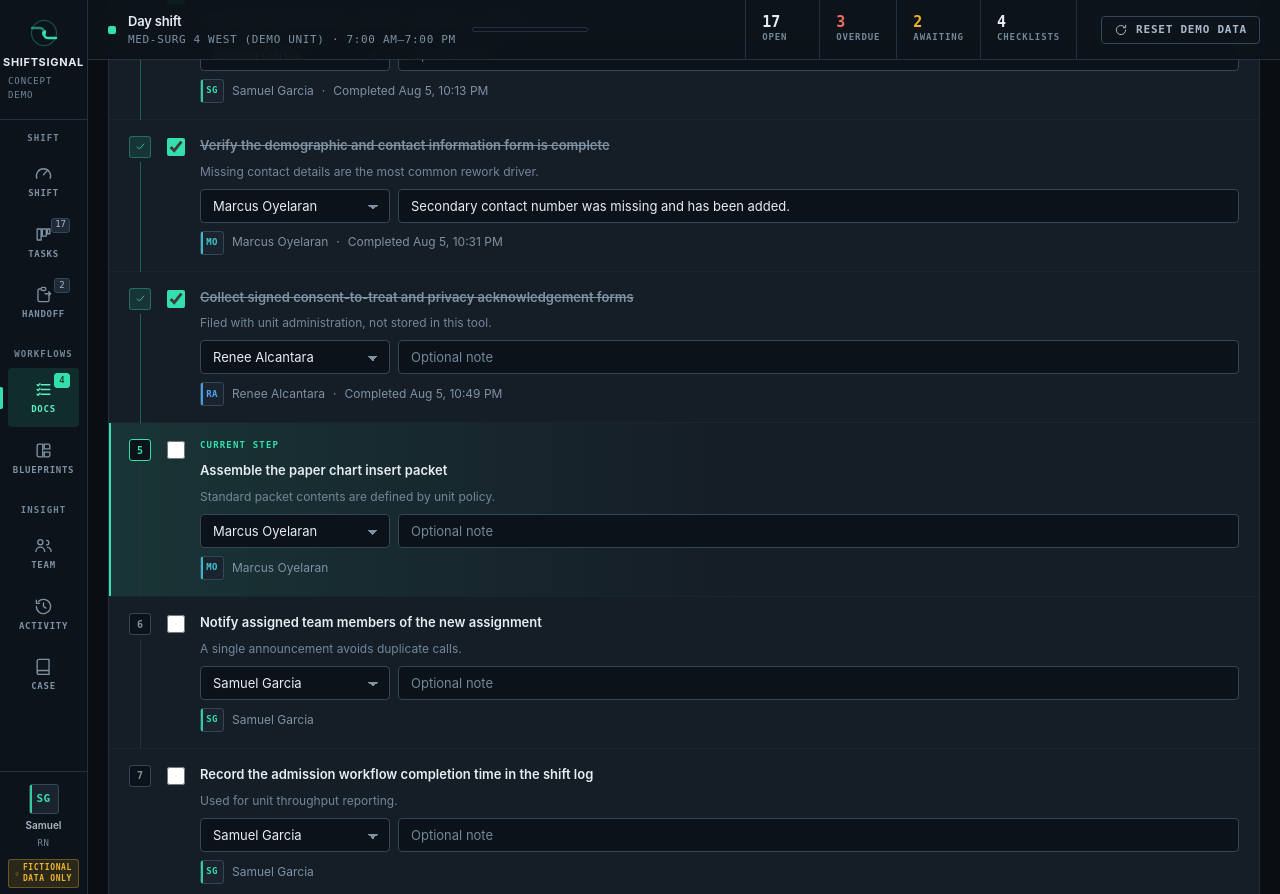
Test: Checklist workflows › completes a step and advances the progress indicator
(page scrolled)
Step 1. Click the checkbox labelled "Assemble the paper chart insert packet" → (176, 450), box [167, 442, 185, 460]
(page scrolled)
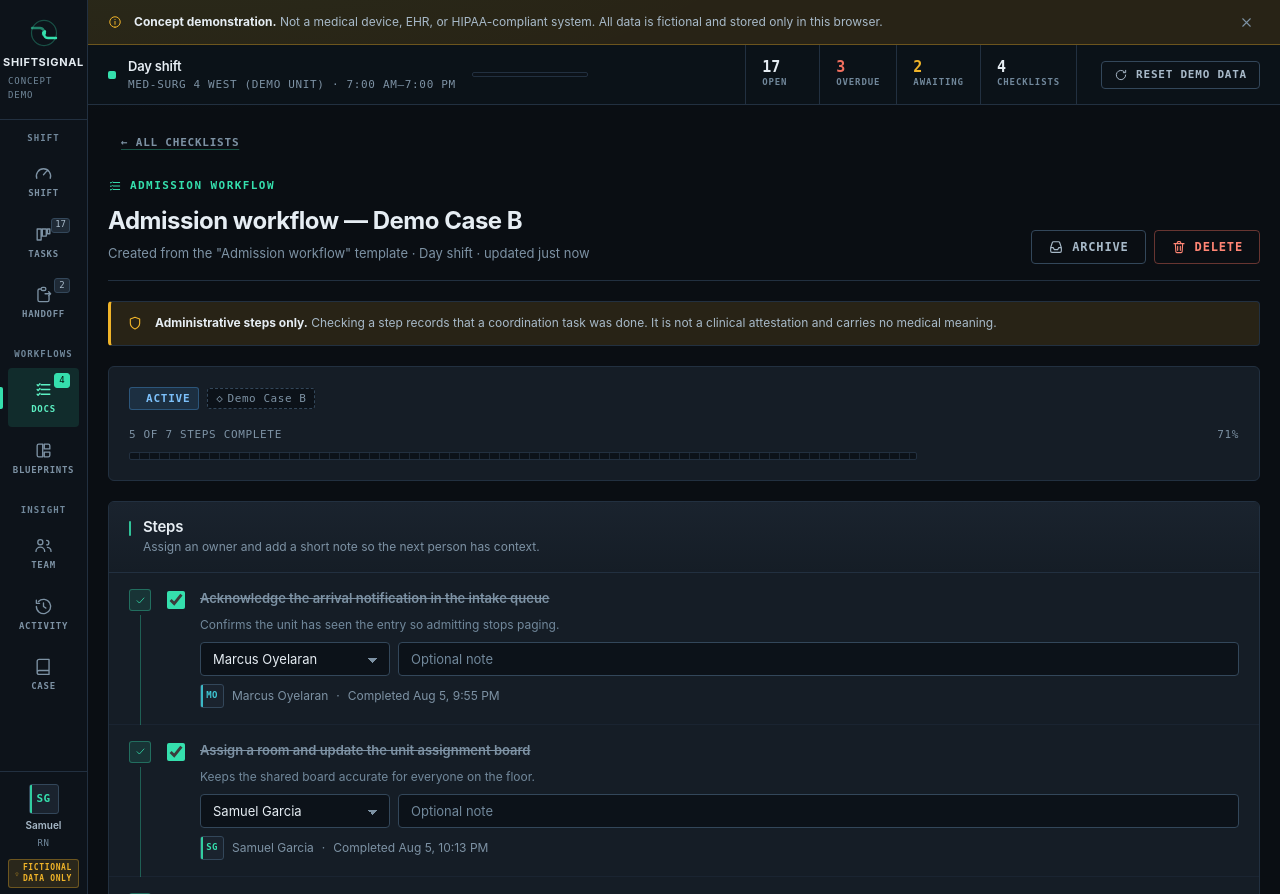
Check: the text "5 of 7 steps complete" is shown, box [129, 426, 282, 444]
